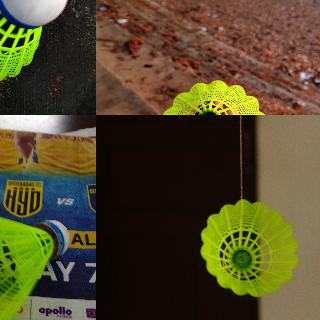shuttlecock: (200, 198, 296, 298), (0, 208, 69, 319), (0, 0, 69, 84), (157, 79, 271, 114)
